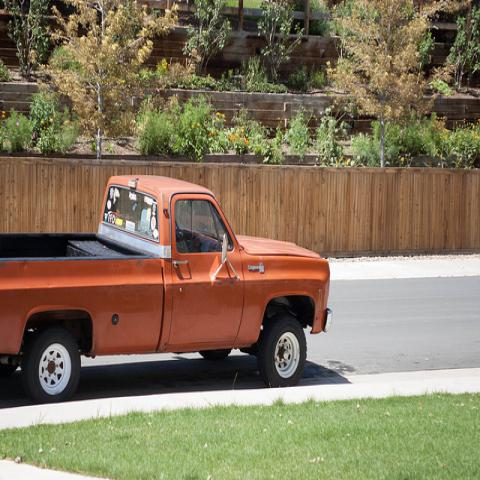truck: (1, 173, 332, 401)
